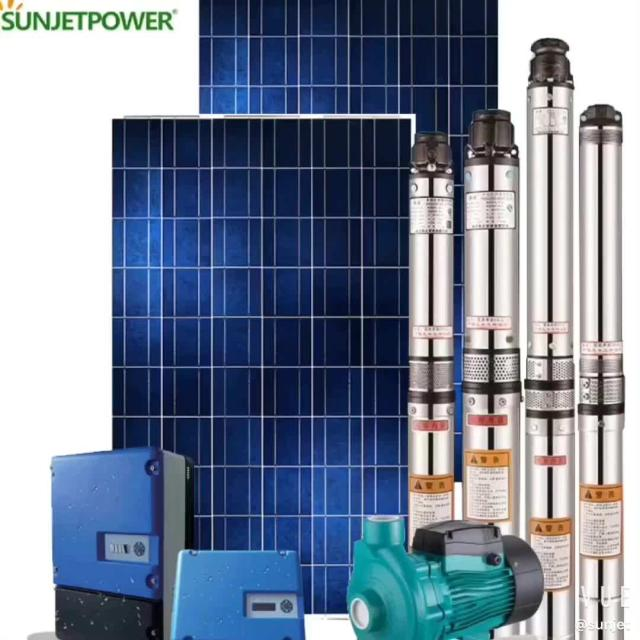clean-solar-panel: (114, 118, 411, 612)
